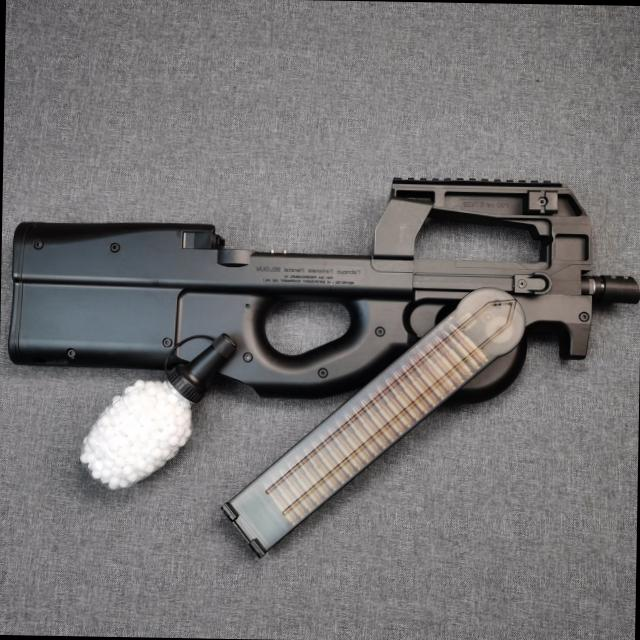Gun: (0, 125, 640, 507)
